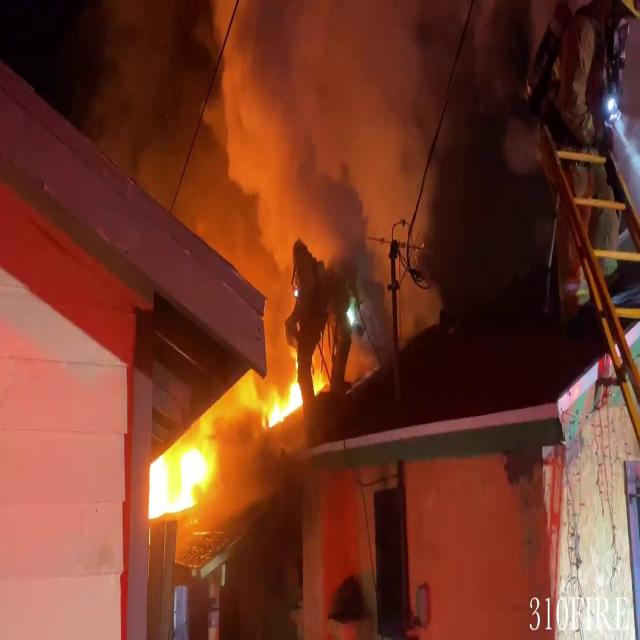Fire: (142, 431, 212, 529), (263, 357, 305, 434)
Smoke: (152, 0, 436, 386)
